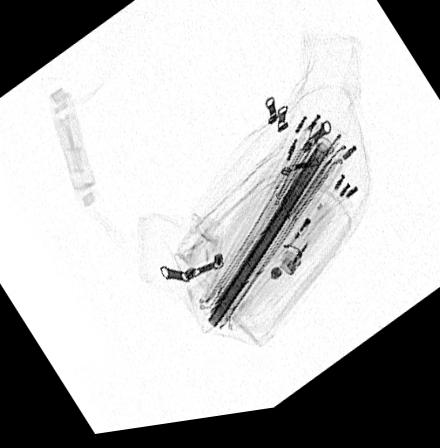Lighter: (273, 195, 342, 285)
